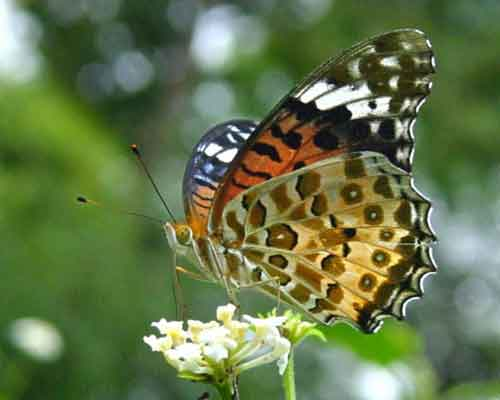Argyreus hyperbius: (69, 21, 442, 335)
butterfly: (71, 23, 444, 337)
